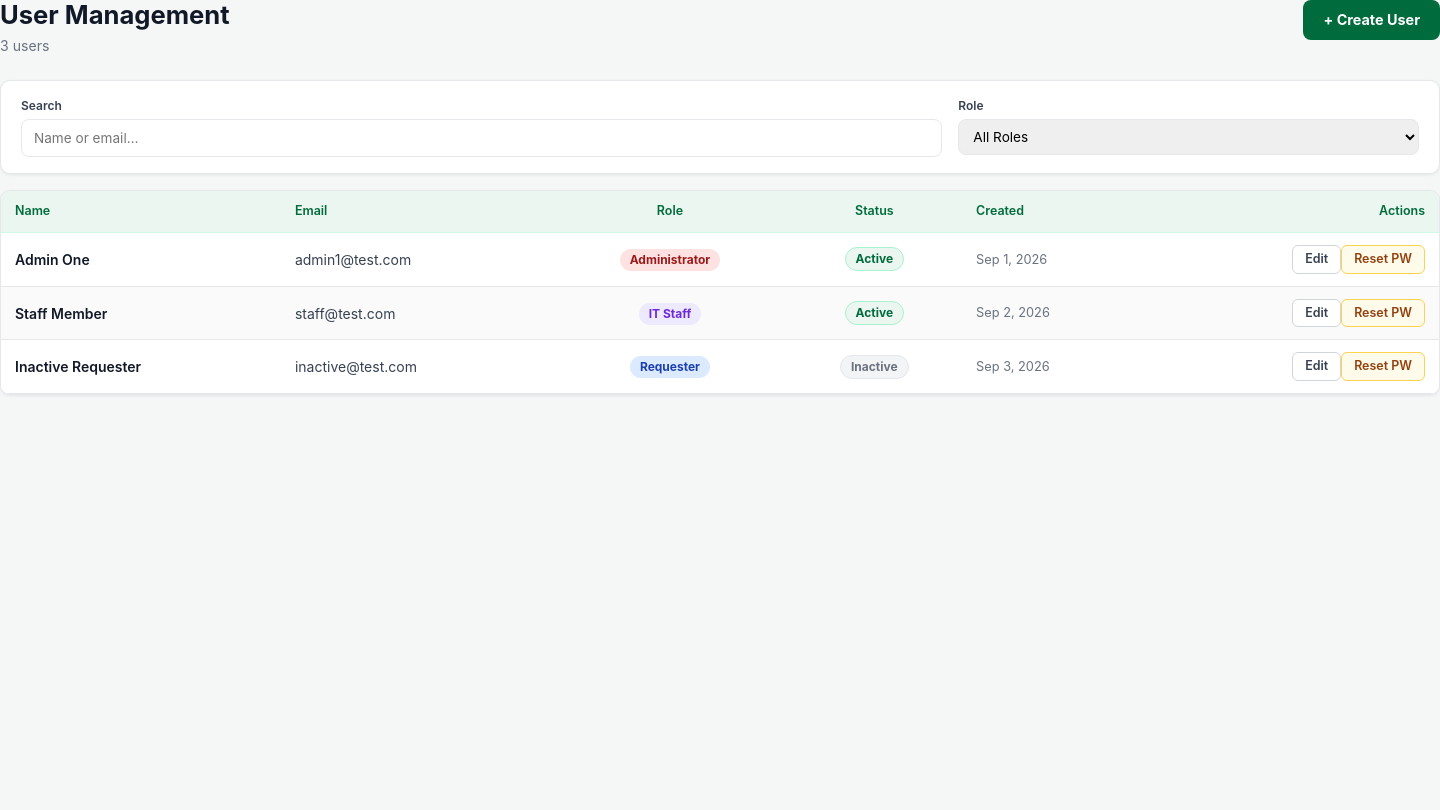
Test: UI-13 — UserManagement shows duplicate email error on Create › shows duplicate email error on Edit when API returns 409
The width and height of the screenshot is (1440, 810).
Open Edit modal for user 2
Click the button with id "btn-edit-user-2": (1317,313) [1292,299,1341,327]
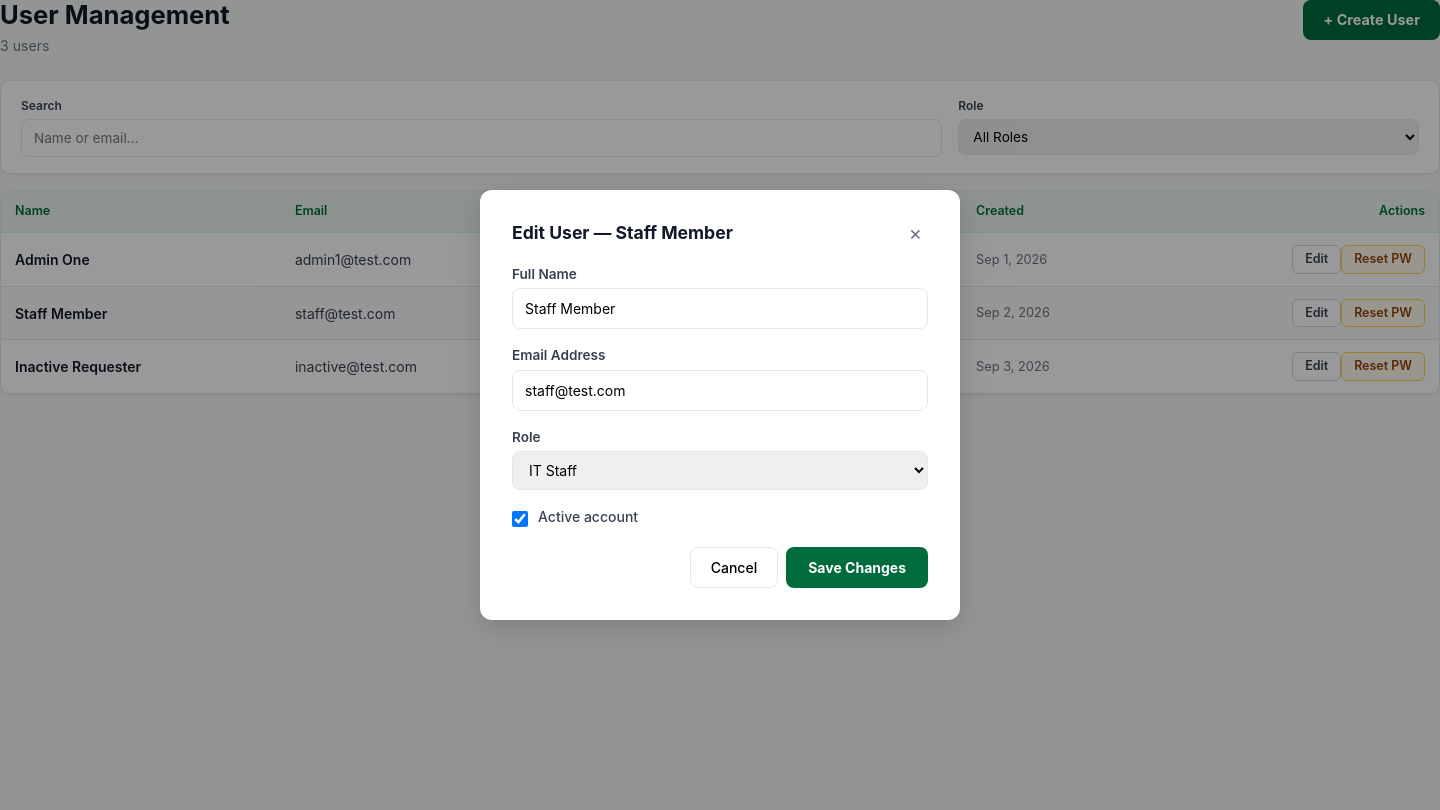
Expected: the field with id "modal-email" is shown
Change email to a duplicate
Replace the text in the field with id "modal-email" with "admin1@test.com": (720,390) [512,370,928,411]
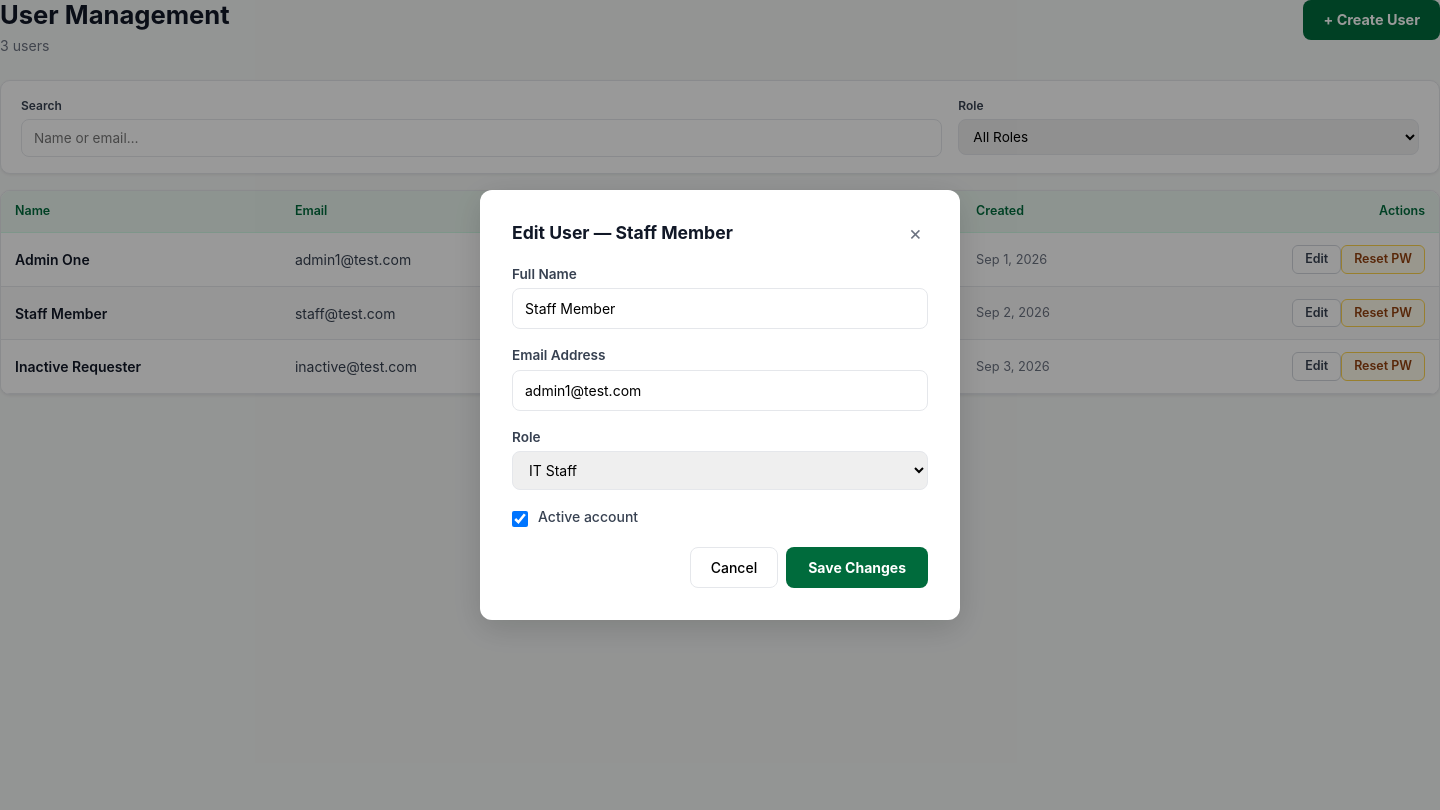
Click the button with id "modal-save-btn": (857,568) [786,547,928,588]
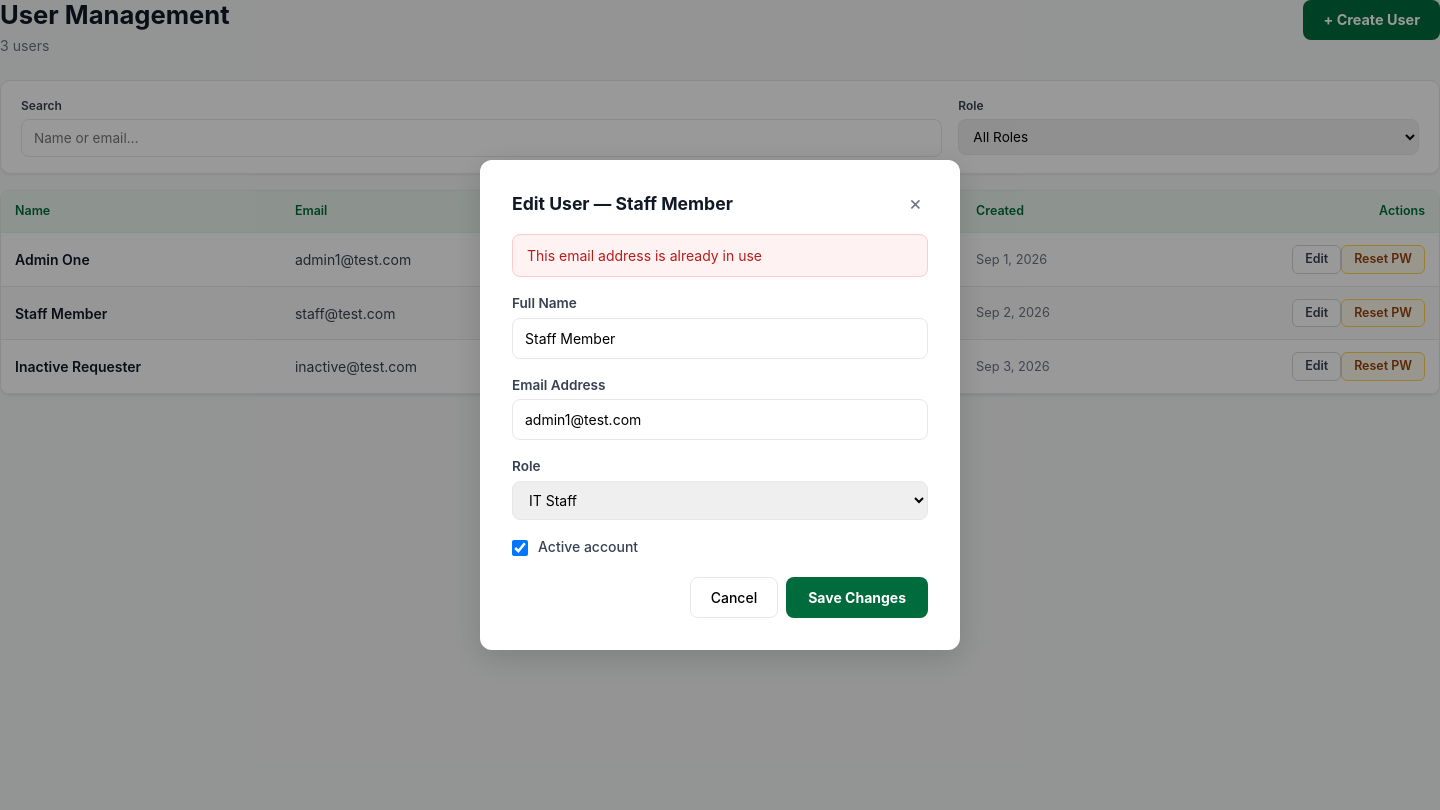
Expected: the text "This email address is already in use" is shown, [512,234,928,277]
